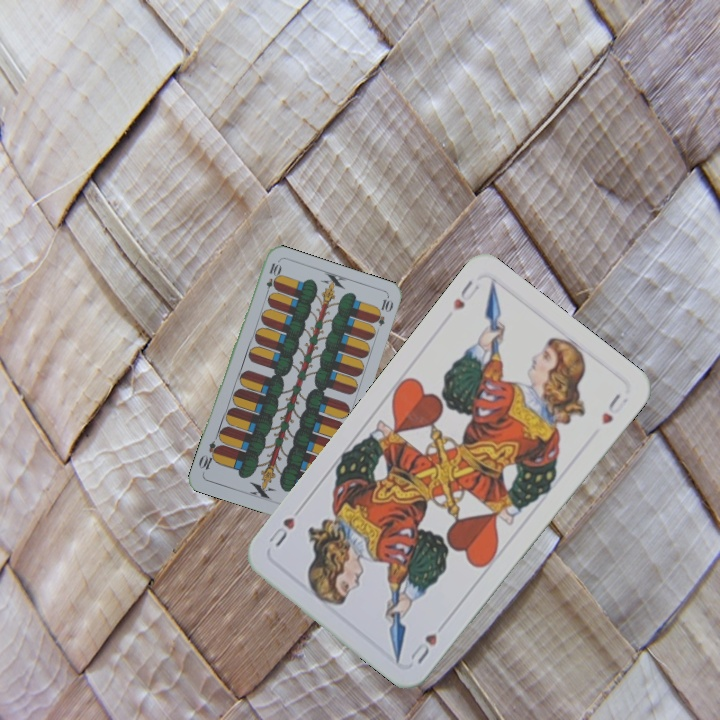E10: (261, 259, 282, 299)
HU: (406, 629, 440, 667), (449, 276, 482, 314)
